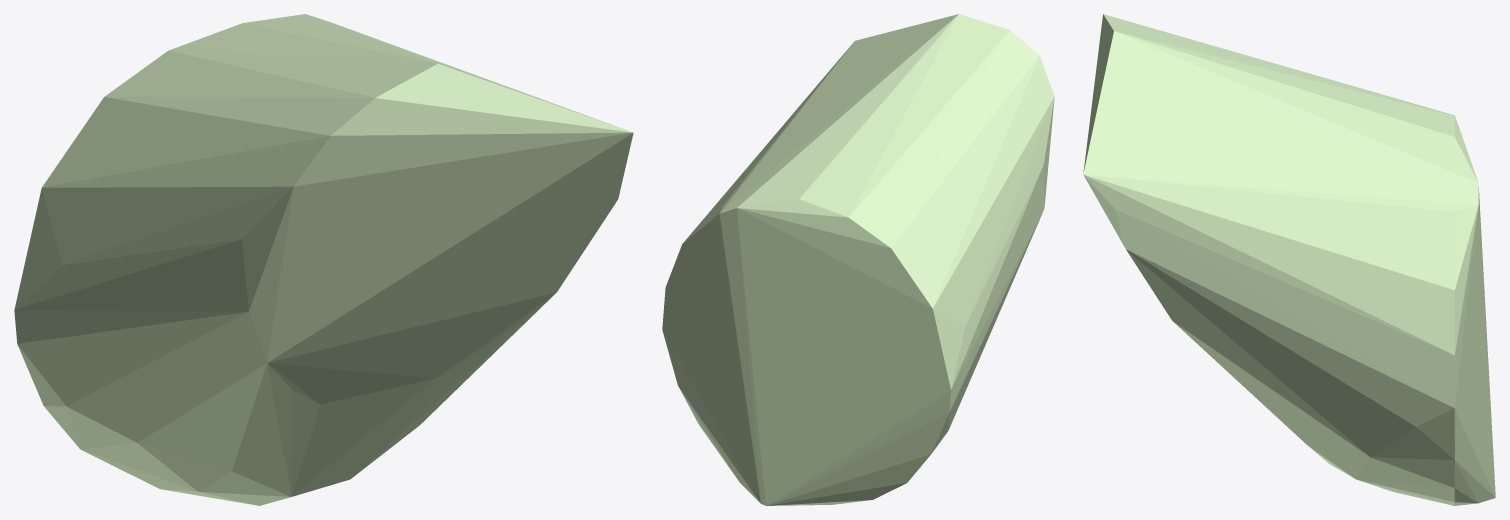
Rendered from kuka_link4_resp_coll_3.dae.
3 renders of one model, left to right at view 1: azimuth 30°, elevation 25°; view 2: azimuth 150°, elevation 25°; view 3: azimuth 270°, elevation 25°, orthographic. The views are drawn at different scales.
Parts seen in each view (by area): view 1: Node_0000015C5C912E10; view 2: Node_0000015C5C912E10; view 3: Node_0000015C5C912E10.
Part boxes in pixels (left/top/right/bottom): Node_0000015C5C912E10: left=14, top=14, right=633, bottom=505; Node_0000015C5C912E10: left=662, top=14, right=1054, bottom=505; Node_0000015C5C912E10: left=1083, top=14, right=1495, bottom=505.
Bounding box in the file's own units: 0.1374 × 0.1738 × 0.1445.
